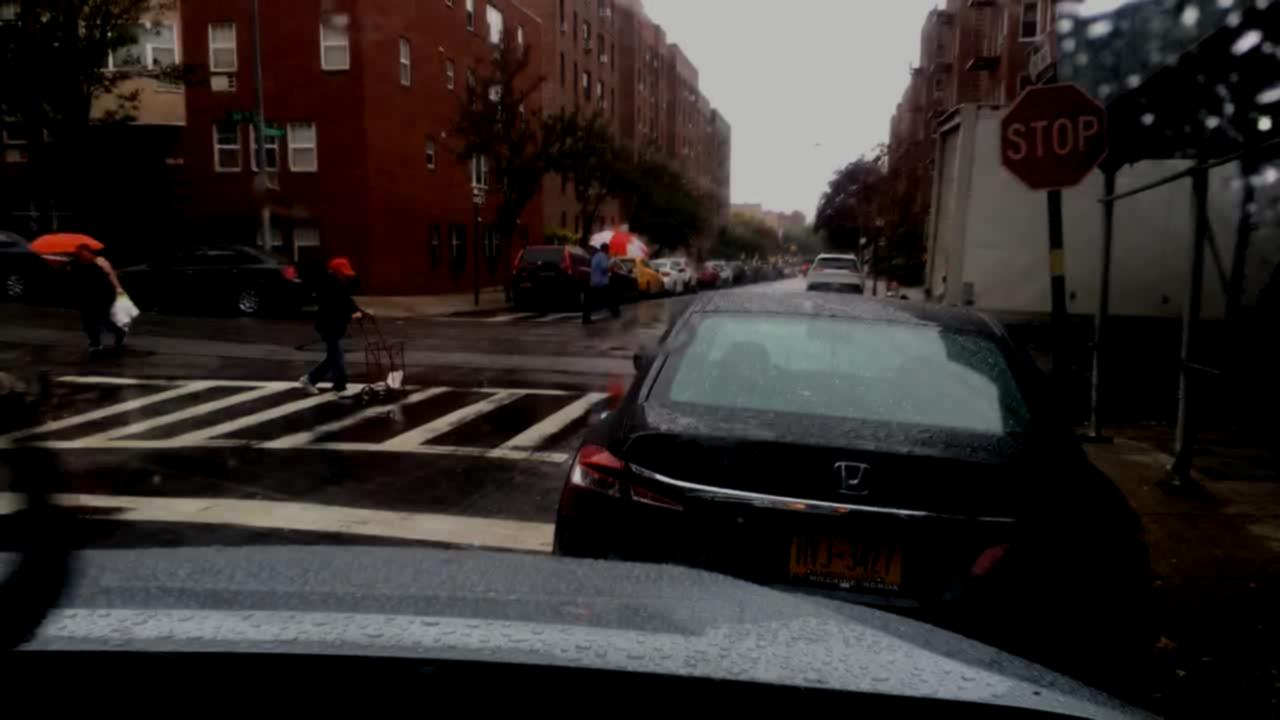Honda: (816, 447, 878, 510)
